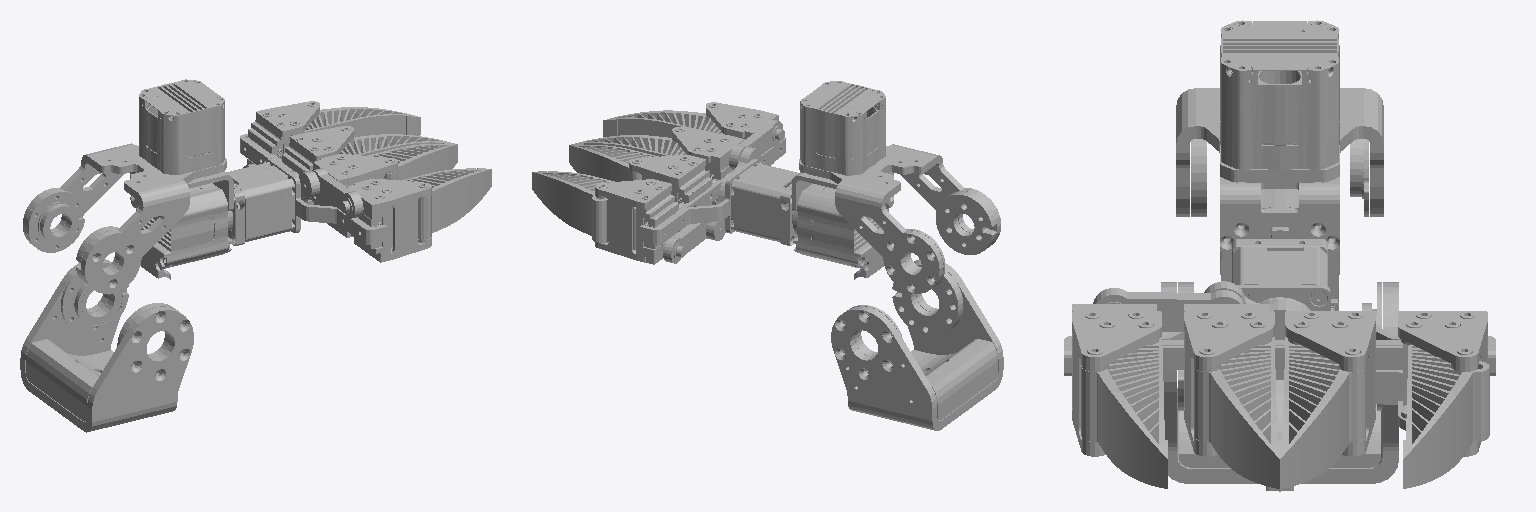
robot.urdf — Panthera-HT_description:
<?xml version="1.0" encoding="utf-8"?>
 <!-- This URDF was automatically created by SolidWorks to URDF Exporter! Originally created by [author] ([email redacted]) 
      Commit Version: 1.6.0-4-g7f85cfe  Build Version: 1.6.7995.38578
      For more information, please see http://wiki.ros.org/sw_urdf_exporter -->
 <robot name="Panthera-HT_description">
  <mujoco>
    <compiler meshdir="../meshes/" balanceinertia="true" discardvisual="false" />
  </mujoco>

   <link name="base_link">
     <inertial>
       <origin xyz="5.789e-05 -0.00015938 0.02298649" rpy="0 0 0" />
       <mass value="0.62922454" />
       <inertia ixx="0.00061305" ixy="-1.32e-06" ixz="1.69e-06" iyy="0.00063876" iyz="-2.1e-07" izz="0.0007565" />
     </inertial>
     <visual>
       <origin xyz="0 0 0" rpy="0 0 0" />
       <geometry>
         <mesh filename="package://Panthera-HT_description/meshes/base_link.STL" />
       </geometry>
       <material name="">
         <color rgba="0.752941176470588 0.752941176470588 0.752941176470588 1" />
       </material>
     </visual>
     <collision>
       <origin xyz="0 0 0" rpy="0 0 0" />
       <geometry>
         <mesh filename="package://Panthera-HT_description/meshes/base_link.STL" />
       </geometry>
     </collision>
   </link>
   <link name="link1">
     <inertial>
       <origin xyz="0.00278873 -0.00094387 0.02491842" rpy="0 0 0" />
       <mass value="0.28101551" />
       <inertia ixx="0.00039386" ixy="3.75e-06" ixz="-3.733e-05" iyy="0.0002136" iyz="7.17e-06" izz="0.00037066" />
     </inertial>
     <visual>
       <origin xyz="0 0 0" rpy="0 0 0" />
       <geometry>
         <mesh filename="package://Panthera-HT_description/meshes/link1.STL" />
       </geometry>
       <material name="">
         <color rgba="0.752941176470588 0.752941176470588 0.752941176470588 1" />
       </material>
     </visual>
     <collision>
       <origin xyz="0 0 0" rpy="0 0 0" />
       <geometry>
         <mesh filename="package://Panthera-HT_description/meshes/link1.STL" />
       </geometry>
     </collision>
   </link>
   <joint name="joint1" type="revolute">
     <origin xyz="0 0 0.0584" rpy="0 0 0" />
     <parent link="base_link" />
     <child link="link1" />
     <axis xyz="0 0 1" />
     <limit lower="-2.4" upper="2.4" effort="21" velocity="4.2" />
   </joint>
   <link name="link2">
     <inertial>
       <origin xyz="-0.12936212 -0.00213339 7.183e-05" rpy="0 0 0" />
       <mass value="1.5165092" />
       <inertia ixx="0.00044711" ixy="3.071e-05" ixz="-5.119e-05" iyy="0.02261049" iyz="3.01e-06" izz="0.02272105" />
     </inertial>
     <visual>
       <origin xyz="0 0 0" rpy="0 0 0" />
       <geometry>
         <mesh filename="package://Panthera-HT_description/meshes/link2.STL" />
       </geometry>
       <material name="">
         <color rgba="0.752941176470588 0.752941176470588 0.752941176470588 1" />
       </material>
     </visual>
     <collision>
       <origin xyz="0 0 0" rpy="0 0 0" />
       <geometry>
         <mesh filename="package://Panthera-HT_description/meshes/link2.STL" />
       </geometry>
     </collision>
   </link>
   <joint name="joint2" type="revolute">
     <origin xyz="0.018199 0 0.053" rpy="0 0 0" />
     <parent link="link1" />
     <child link="link2" />
     <axis xyz="0 1 0" />
     <limit lower="0.0" upper="3.2" effort="36" velocity="5" />
   </joint>
   <link name="link3">
     <inertial>
       <origin xyz="0.16343103 -0.00164646 0.05337427" rpy="0 0 0" />
       <mass value="0.66917784" />
       <inertia ixx="0.00061339" ixy="-1.439e-05" ixz="-0.00070321" iyy="0.00538615" iyz="-1.404e-05" izz="0.00532976" />
     </inertial>
     <visual>
       <origin xyz="0 0 0" rpy="0 0 0" />
       <geometry>
         <mesh filename="package://Panthera-HT_description/meshes/link3.STL" />
       </geometry>
       <material name="">
         <color rgba="0.752941176470588 0.752941176470588 0.752941176470588 1" />
       </material>
     </visual>
     <collision>
       <origin xyz="0 0 0" rpy="0 0 0" />
       <geometry>
         <mesh filename="package://Panthera-HT_description/meshes/link3.STL" />
       </geometry>
     </collision>
   </link>
   <joint name="joint3" type="revolute">
     <origin xyz="-0.26 0 0" rpy="0 0 0" />
     <parent link="link2" />
     <child link="link3" />
     <axis xyz="0 -1 0" />
     <limit lower="0.0" upper="4.0" effort="36" velocity="5" />
   </joint>
   <link name="link4">
     <inertial>
       <origin xyz="0.05240131 -0.00055249 0.04094177" rpy="0 0 0" />
       <mass value="0.30780516" />
       <inertia ixx="0.00025787" ixy="-1.011e-05" ixz="-0.00017337" iyy="0.00039454" iyz="-8.09e-06" izz="0.00035094" />
     </inertial>
     <visual>
       <origin xyz="0 0 0" rpy="0 0 0" />
       <geometry>
         <mesh filename="package://Panthera-HT_description/meshes/link4.STL" />
       </geometry>
       <material name="">
         <color rgba="0.752941176470588 0.752941176470588 0.752941176470588 1" />
       </material>
     </visual>
     <collision>
       <origin xyz="0 0 0" rpy="0 0 0" />
       <geometry>
         <mesh filename="package://Panthera-HT_description/meshes/link4.STL" />
       </geometry>
     </collision>
   </link>
   <joint name="joint4" type="revolute">
     <origin xyz="0.23 0 0.06" rpy="0 0 0" />
     <parent link="link3" />
     <child link="link4" />
     <axis xyz="0 -1 0" />
     <limit lower="-1.6" upper="1.6" effort="21" velocity="4.2" />
   </joint>
   <link name="link5">
     <inertial>
       <origin xyz="0.00303007 8.509e-05 -0.03624079" rpy="0 0 0" />
       <mass value="0.23711139" />
       <inertia ixx="4.815e-05" ixy="-3e-08" ixz="-1.5e-07" iyy="5.773e-05" iyz="-1e-08" izz="3.359e-05" />
     </inertial>
     <visual>
       <origin xyz="0 0 0" rpy="0 0 0" />
       <geometry>
         <mesh filename="package://Panthera-HT_description/meshes/link5.STL" />
       </geometry>
       <material name="">
         <color rgba="0.752941176470588 0.752941176470588 0.752941176470588 1" />
       </material>
     </visual>
     <collision>
       <origin xyz="0 0 0" rpy="0 0 0" />
       <geometry>
         <mesh filename="package://Panthera-HT_description/meshes/link5.STL" />
       </geometry>
     </collision>
   </link>
   <joint name="joint5" type="revolute">
     <origin xyz="0.07 0 0.036319" rpy="0 0 0" />
     <parent link="link4" />
     <child link="link5" />
     <axis xyz="0 0 -1" />
     <limit lower="-1.7" upper="1.7" effort="10" velocity="3.7" />
   </joint>
   <link name="link6">
     <inertial>
       <origin xyz="0.06704625 0.00051731 1.674e-05" rpy="0 0 0" />
       <mass value="0.45" />
       <inertia ixx="0.00107368" ixy="-1.25e-05" ixz="3e-07" iyy="0.00068998" iyz="2.517e-05" izz="0.00167551" />
     </inertial>
     <visual>
       <origin xyz="0 0 0" rpy="0 0 0" />
       <geometry>
         <mesh filename="package://Panthera-HT_description/meshes/link6.STL" />
       </geometry>
       <material name="">
         <color rgba="0.752941176470588 0.752941176470588 0.752941176470588 1" />
       </material>
     </visual>
     <collision>
       <origin xyz="0 0 0" rpy="0 0 0" />
       <geometry>
         <mesh filename="package://Panthera-HT_description/meshes/link6.STL" />
       </geometry>
     </collision>
   </link>
   <joint name="joint6" type="revolute">
     <origin xyz="0.02345 0 -0.039" rpy="0 0 0" />
     <parent link="link5" />
     <child link="link6" />
     <axis xyz="1 0 0" />
     <limit lower="-2.5" upper="2.5" effort="10" velocity="3.7" />
   </joint>
  <link
    name="L_finger">
    <inertial>
      <origin
        xyz="-0.0691013053303295 0.0168637833220532 -0.000510235194008973"
        rpy="0 0 0" />
      <mass
        value="0.127457990512492" />
      <inertia
        ixx="2.28803355388279E-05"
        ixy="-4.20099870625027E-06"
        ixz="3.42841892600802E-07"
        iyy="5.15650351948181E-05"
        iyz="-5.67310171718486E-10"
        izz="4.64985980845228E-05" />
    </inertial>
    <visual>
      <origin
        xyz="0 0 0"
        rpy="0 0 0" />
      <geometry>
        <mesh
          filename="package://Panthera-HT_description_with_finger/meshes/L_finger.STL" />
      </geometry>
      <material
        name="">
        <color
          rgba="0.752941176470588 0.752941176470588 0.752941176470588 1" />
      </material>
    </visual>
    <collision>
      <origin
        xyz="0 0 0"
        rpy="0 0 0" />
      <geometry>
        <mesh
          filename="package://Panthera-HT_description_with_finger/meshes/L_finger.STL" />
      </geometry>
    </collision>
  </link>
  <joint
    name="L_finger"
    type="prismatic">
    <origin
      xyz="0.16555 0 0"
      rpy="0 0 0" />
    <parent
      link="link6" />
    <child
      link="L_finger" />
    <axis
      xyz="0 1 0" />
    <limit
      lower="0"
      upper="0.04"
      effort="0"
      velocity="0" />
  </joint>
  <link
    name="R_finger">
    <inertial>
      <origin
        xyz="-0.0691013053308377 -0.0168637833221477 0.000510464525338983"
        rpy="0 0 0" />
      <mass
        value="0.12745799051198" />
      <inertia
        ixx="2.28803355389158E-05"
        ixy="4.20099870615554E-06"
        ixz="-3.42841892362301E-07"
        iyy="5.15650351903232E-05"
        iyz="-5.67310157868916E-10"
        izz="4.6498598079911E-05" />
    </inertial>
    <visual>
      <origin
        xyz="0 0 0"
        rpy="0 0 0" />
      <geometry>
        <mesh
          filename="package://Panthera-HT_description_with_finger/meshes/R_finger.STL" />
      </geometry>
      <material
        name="">
        <color
          rgba="0.752941176470588 0.752941176470588 0.752941176470588 1" />
      </material>
    </visual>
    <collision>
      <origin
        xyz="0 0 0"
        rpy="0 0 0" />
      <geometry>
        <mesh
          filename="package://Panthera-HT_description_with_finger/meshes/R_finger.STL" />
      </geometry>
    </collision>
  </link>
  <joint
    name="R_finger"
    type="prismatic">
    <origin
      xyz="0.16555 0 0"
      rpy="0 0 0" />
    <parent
      link="link6" />
    <child
      link="R_finger" />
    <axis
      xyz="0 -1 0" />
    <limit
      lower="0"
      upper="0.04"
      effort="0"
      velocity="0" />
    <mimic
      joint="L_finger"
      multiplier="1"
      offset="0" />
  </joint>
</robot>

--- Facts derived from the render (not from the file) ---
The picture shows the robot from 3 angles, left to right: view 1: azimuth 30°, elevation 25°; view 2: azimuth 150°, elevation 25°; view 3: azimuth 270°, elevation 25°; orthographic projection.
Robot: Panthera-HT_description — 9 links, 8 joints (6 revolute, 2 prismatic); root link base_link; default pose: all joints at 0.
Visible links, largest first — view 1: link6, link4, link1, link5, R_finger, L_finger; view 2: link6, link4, link1, link5, L_finger, R_finger; view 3: link6, link4, R_finger, L_finger, link1, link5.
Link boxes in pixels (x1,y1,x2,y2): link6: (226,101,491,262); link4: (23,79,226,293); link1: (20,259,193,432); link5: (130,171,233,279); R_finger: (313,143,457,237); L_finger: (282,126,454,204); link6: (532,102,798,264); link4: (799,81,1000,293); link1: (831,259,1003,430); link5: (792,172,893,279); L_finger: (569,144,711,231); R_finger: (571,127,744,204); link6: (1064,227,1495,488); link4: (1176,20,1383,216); R_finger: (1184,304,1279,488); L_finger: (1280,311,1375,488); link1: (1161,282,1398,491); link5: (1220,177,1339,310).
Bounding box of the posed robot: 0.2835 × 0.158 × 0.1927 m (x, y, z).
6 mesh visuals loaded from 9 distinct referenced files (6 binary STL); not drawn: 3 (reference not matched to a file when rendering).